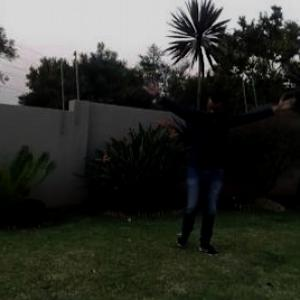takeoff: (146, 72, 283, 271)
